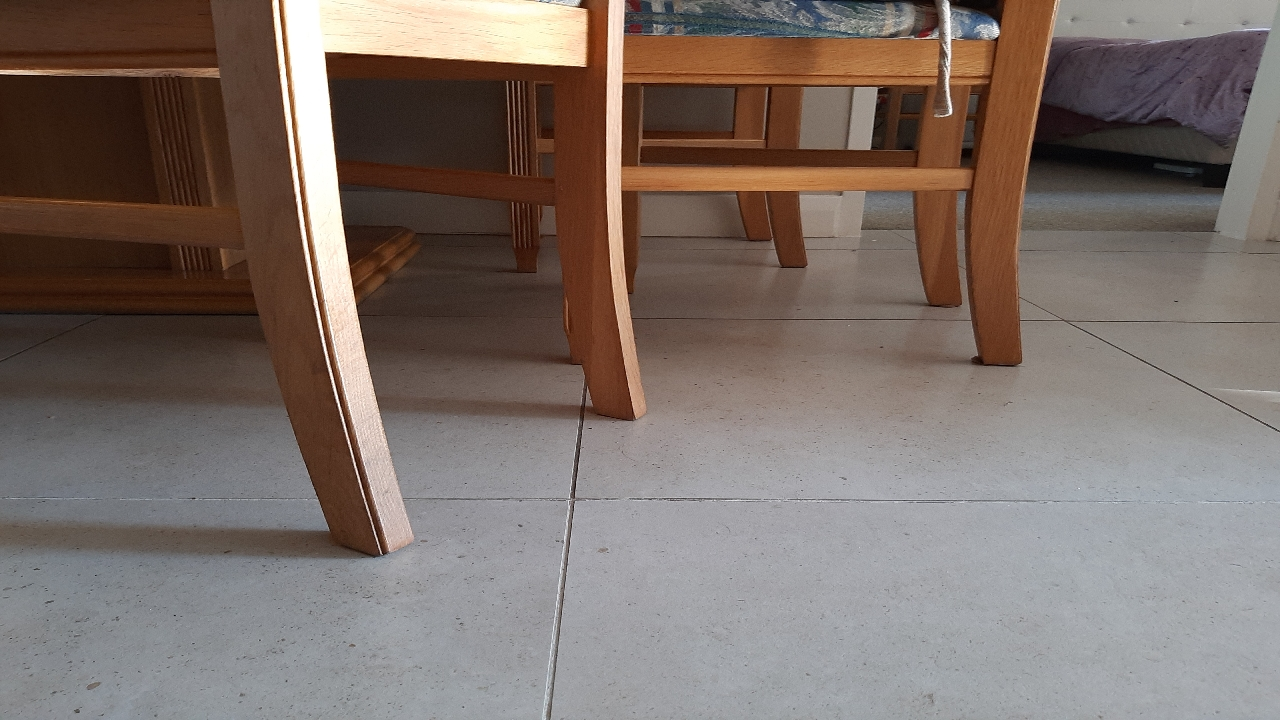chair: (480, 205, 1073, 410), (181, 303, 476, 604)
